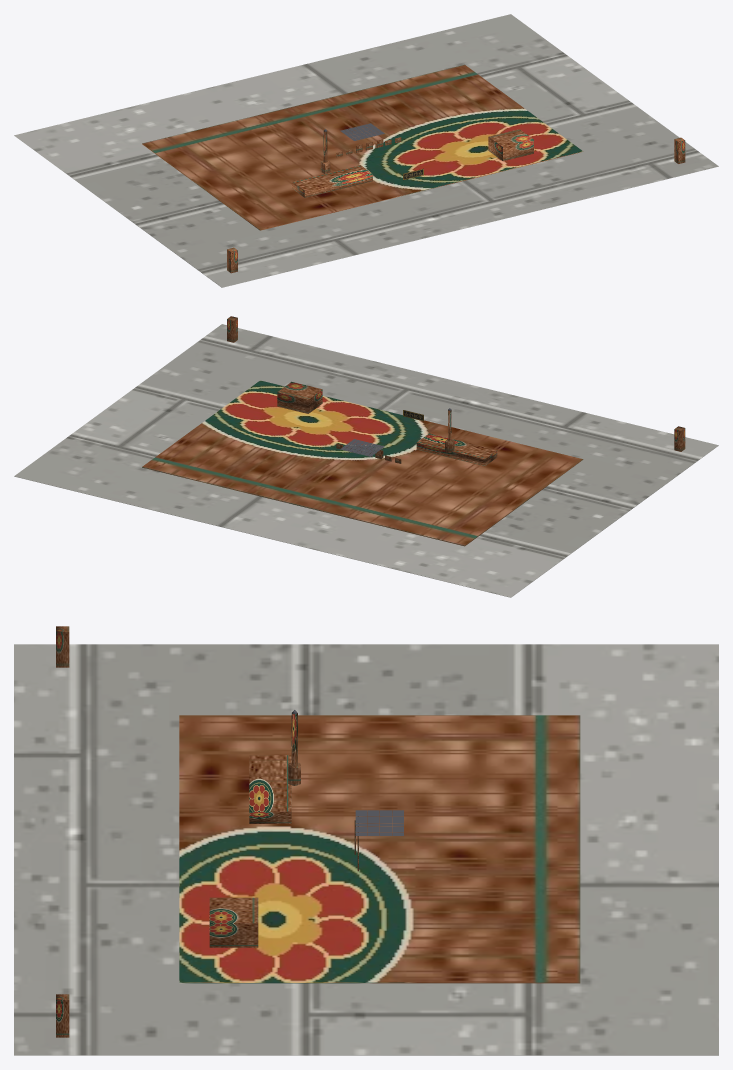
The picture shows the model from 3 angles, top to bottom: view 1: azimuth 30°, elevation 25°; view 2: azimuth 150°, elevation 25°; view 3: azimuth 270°, elevation 25°; orthographic projection. The views are drawn at different scales.
Visible parts, largest first — view 1: 11710_01_05545_007_01_L2__base, 11710_01_05545_007_02_L2__body, 11710_01_05545_007_06_L2__green, 11710_01_05545_007_03_L2__roof; view 2: 11710_01_05545_007_01_L2__base, 11710_01_05545_007_02_L2__body, 11710_01_05545_007_06_L2__green, 11710_01_05545_007_03_L2__roof; view 3: 11710_01_05545_007_01_L2__base, 11710_01_05545_007_02_L2__body, 11710_01_05545_007_03_L2__roof, 11710_01_05545_007_06_L2__green.
Boxes of the visible parts, box(x1,y1,x2,y2) form: 11710_01_05545_007_01_L2__base: box(14, 14, 718, 287); 11710_01_05545_007_02_L2__body: box(142, 64, 583, 230); 11710_01_05545_007_06_L2__green: box(227, 137, 685, 273); 11710_01_05545_007_03_L2__roof: box(324, 123, 384, 140); 11710_01_05545_007_01_L2__base: box(14, 324, 718, 597); 11710_01_05545_007_02_L2__body: box(142, 380, 583, 546); 11710_01_05545_007_06_L2__green: box(227, 316, 685, 451); 11710_01_05545_007_03_L2__roof: box(340, 408, 451, 456); 11710_01_05545_007_01_L2__base: box(14, 644, 718, 1055); 11710_01_05545_007_02_L2__body: box(179, 713, 580, 983); 11710_01_05545_007_03_L2__roof: box(292, 710, 403, 835); 11710_01_05545_007_06_L2__green: box(56, 626, 69, 1037).
Size of the model in its own units: 160 by 16.2 by 116.
5 materials, 5 textured.
